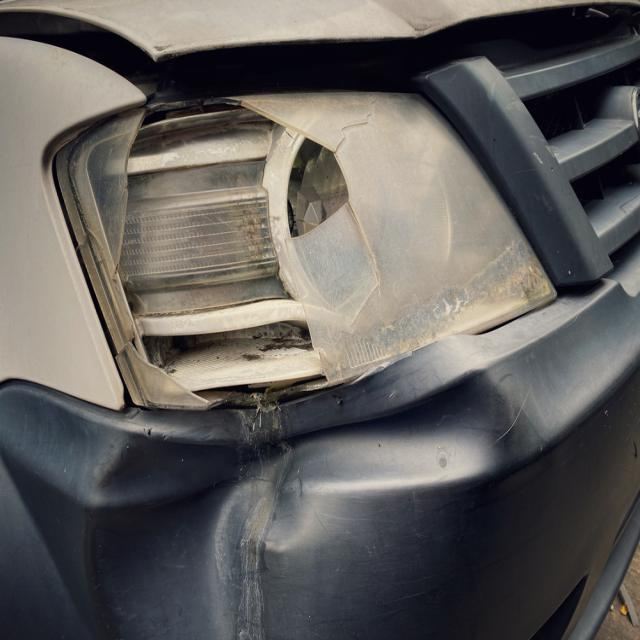Cabossage: (53, 340, 537, 640)
Dechirure: (1, 4, 153, 113)
Phare abime: (117, 89, 384, 404)
